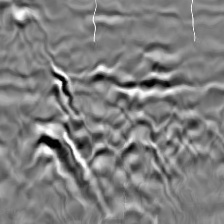Utility: (29, 64, 102, 224), (108, 99, 211, 175)
